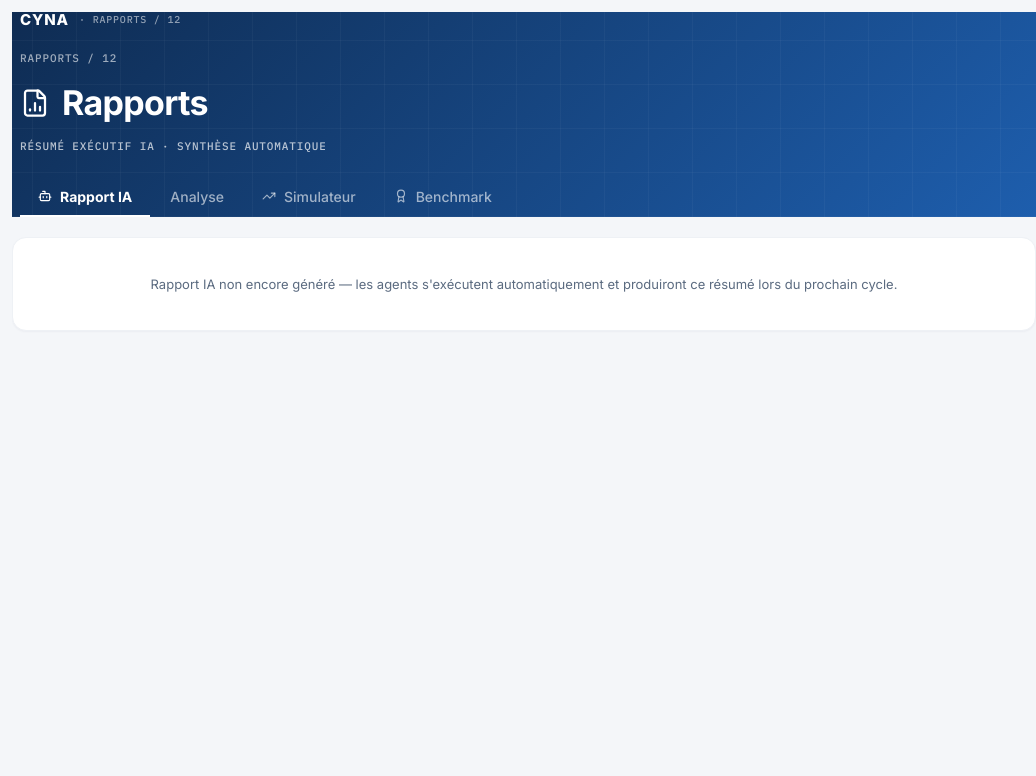
Test: SIMULATEUR / BENCHMARK — libellé de périmètre global › Simulateur déclare « basé sur tout l'historique »
Click the button "Simulateur": (309, 197) [244,178,374,217]
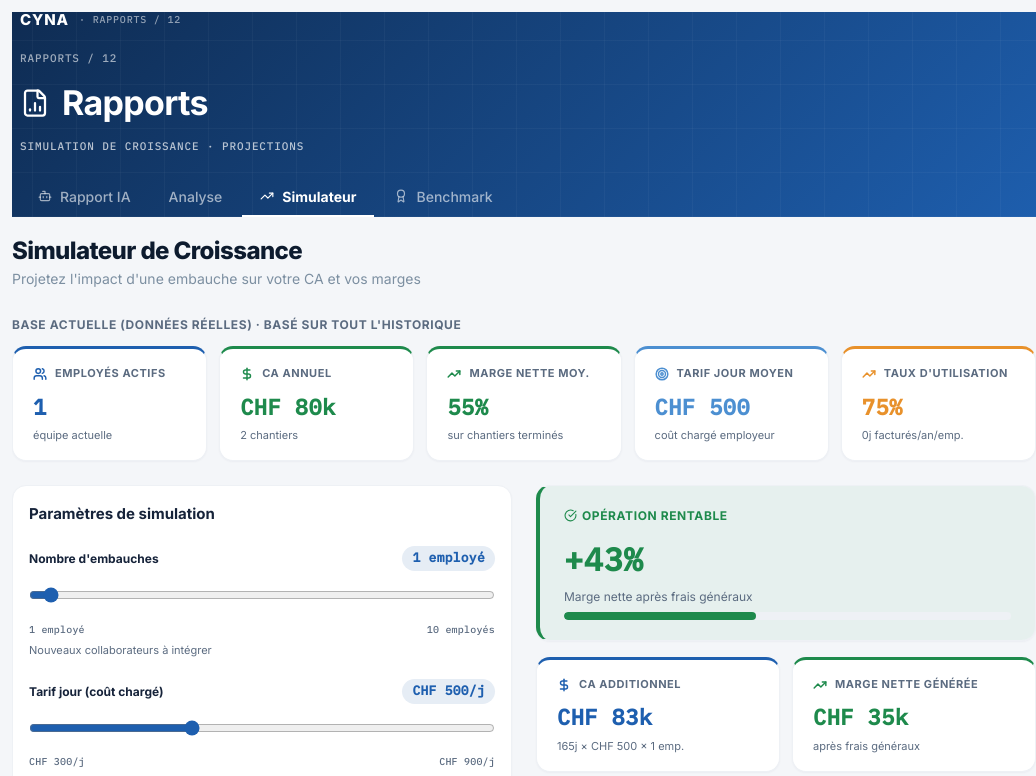
Expected: the text "Base actuelle (données réelles) · basé sur tout l'historique" is shown, [12,317,461,332]
